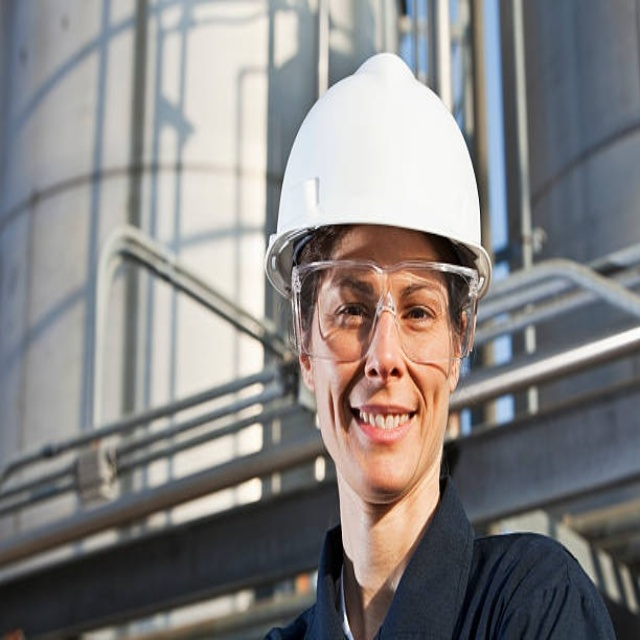Gafas: (285, 254, 480, 367)
Sin_mascara: (338, 384, 428, 474)
